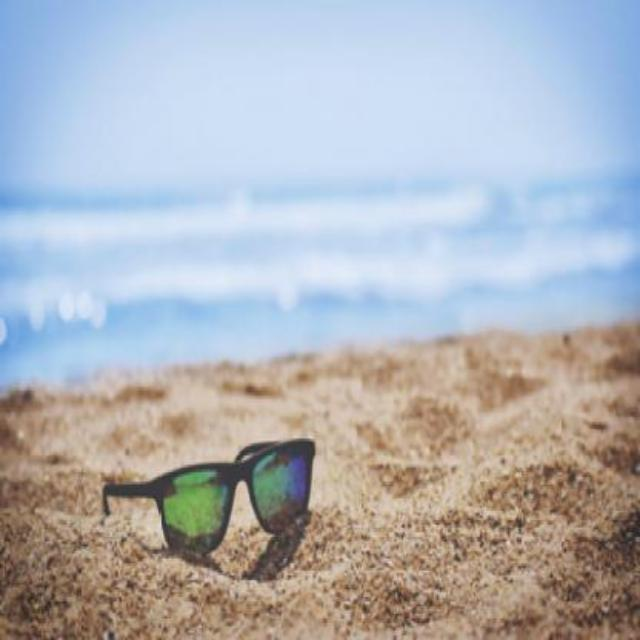sunglasses: (100, 436, 316, 554)
